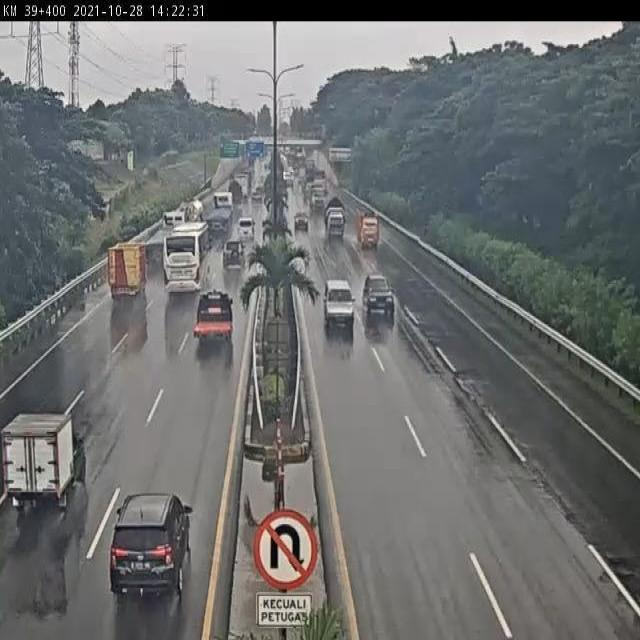bus-l-: (159, 220, 211, 296)
car: (109, 492, 193, 597), (2, 413, 88, 511), (363, 275, 394, 316), (222, 238, 246, 266)
truck-m-: (170, 193, 206, 239)
truck-s-: (106, 237, 149, 295), (194, 291, 234, 344), (355, 207, 381, 252), (323, 196, 346, 243)
truck-xl-: (134, 208, 187, 263), (198, 188, 233, 243)
